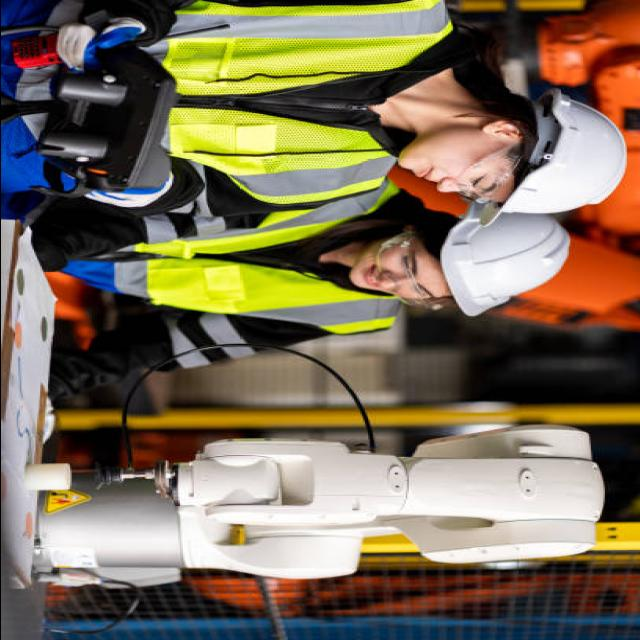Robotic-arm: (0, 424, 614, 589)
